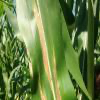Corn leaf blight: (16, 0, 72, 99)
